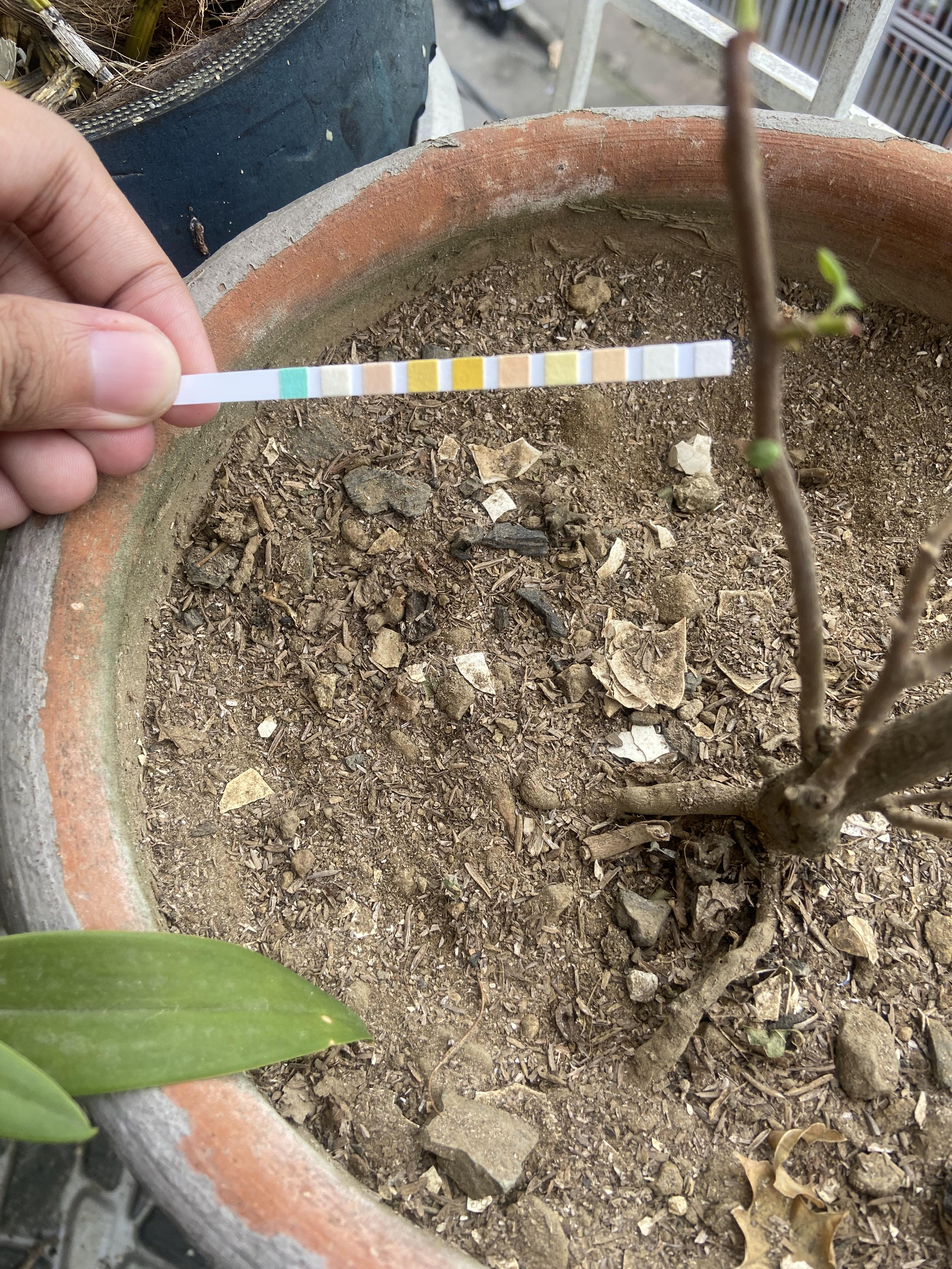Bilirubin: (323, 367, 349, 396)
Blood: (453, 359, 482, 389)
Glucose: (280, 369, 307, 398)
Ketone: (363, 364, 392, 394)
Leukocytes: (696, 344, 729, 375)
Nitrite: (644, 347, 675, 377)
Protein: (546, 354, 575, 384)
SpGravity: (408, 362, 437, 392)
Urobilinogen: (593, 350, 625, 381)
pH: (499, 357, 528, 387)
strip: (191, 340, 731, 405)
